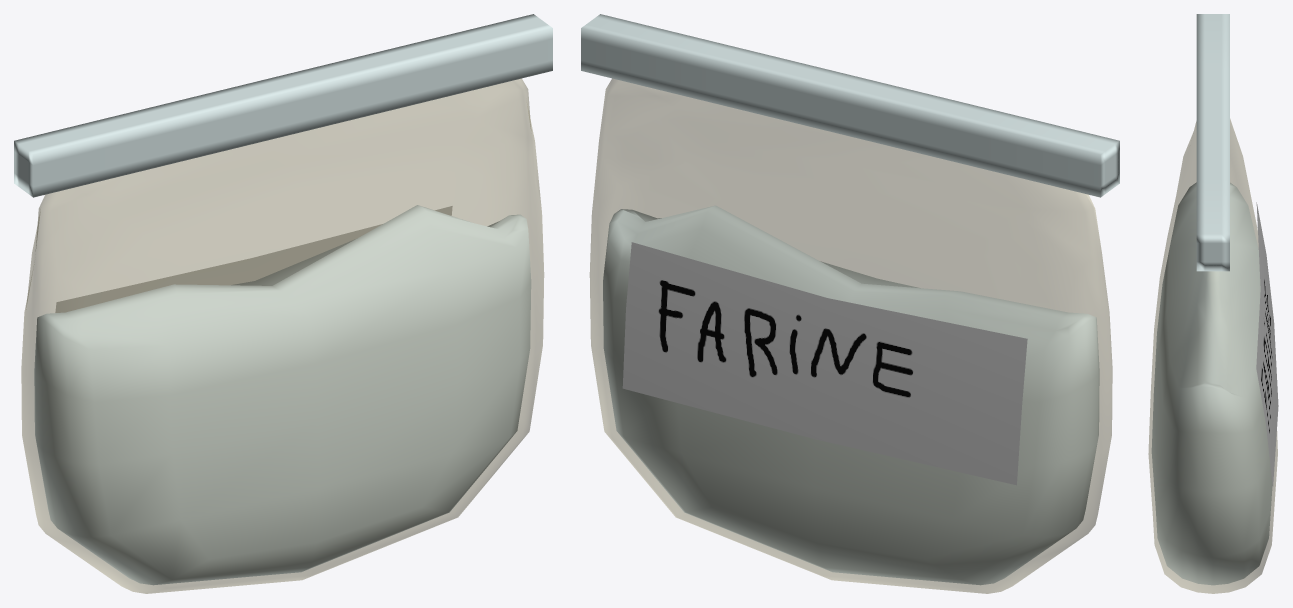
The model's file is Flour_pack_1.glb.
3 views of the same model, side by side, from view 1: azimuth 30°, elevation 25°; view 2: azimuth 150°, elevation 25°; view 3: azimuth 270°, elevation 25° (orthographic). The views are drawn at different scales.
Parts seen in each view (by area): view 1: Sac, Farine, Fermeture, Etiquette; view 2: Sac, Farine, Etiquette, Fermeture; view 3: Sac, Farine, Fermeture, Etiquette.
Boxes of the visible parts, left/top/right/bottom form: Sac: left=21, top=78, right=544, bottom=593; Farine: left=34, top=205, right=531, bottom=585; Fermeture: left=14, top=14, right=552, bottom=197; Etiquette: left=55, top=206, right=452, bottom=312; Sac: left=589, top=78, right=1112, bottom=593; Farine: left=603, top=205, right=1099, bottom=585; Etiquette: left=622, top=242, right=1027, bottom=485; Fermeture: left=581, top=14, right=1119, bottom=197; Sac: left=1148, top=119, right=1277, bottom=593; Farine: left=1151, top=182, right=1272, bottom=585; Fermeture: left=1196, top=14, right=1229, bottom=271; Etiquette: left=1256, top=202, right=1278, bottom=486.
Size of the model in its own units: 2.14 by 1.92 by 0.5336.
3 materials, 2 textured.
